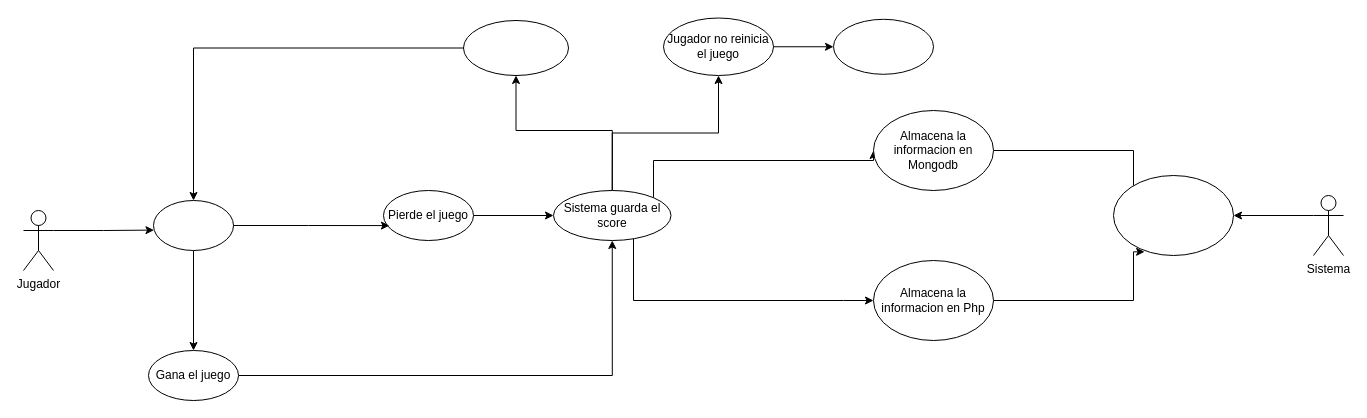
Image size: 1367x418. Some labels were removed from this diagram. Here are the shapes that lost their labels. From the top down, the centre of each, then its label:
At point 515,48: "Jugador reinicia el juego".
At point 883,46: "El juego se acaba".
At point 193,225: "Iniciar juego".
At point 1173,215: "Acede a la informacion almacenada".
